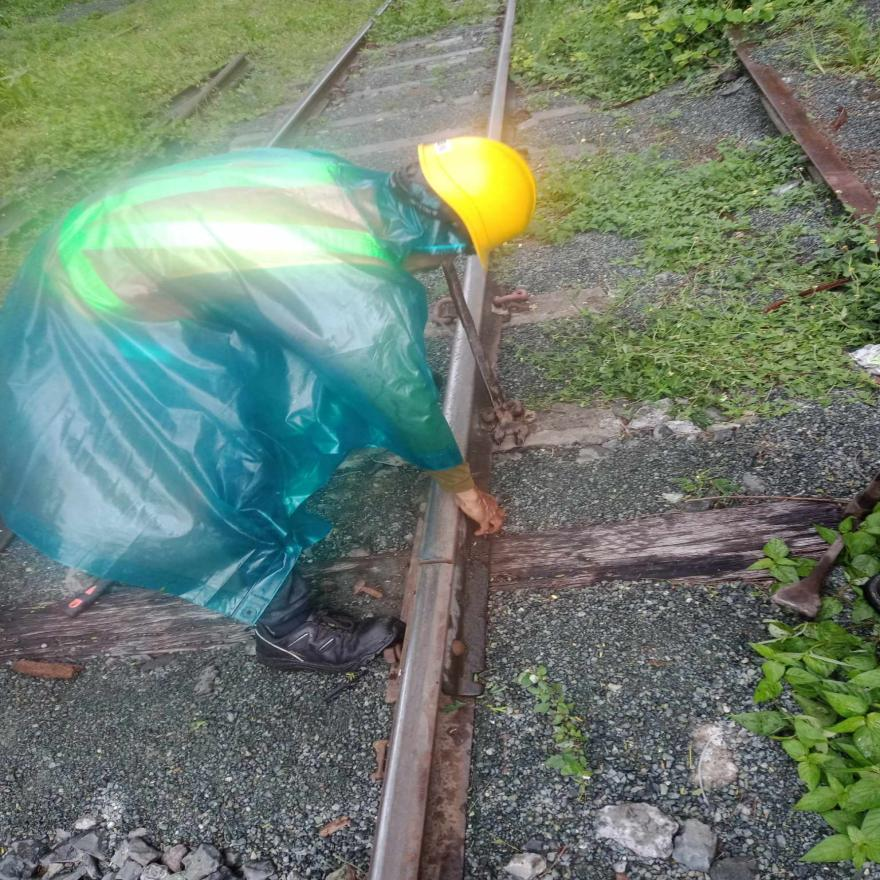railway-gap: (390, 528, 476, 599)
